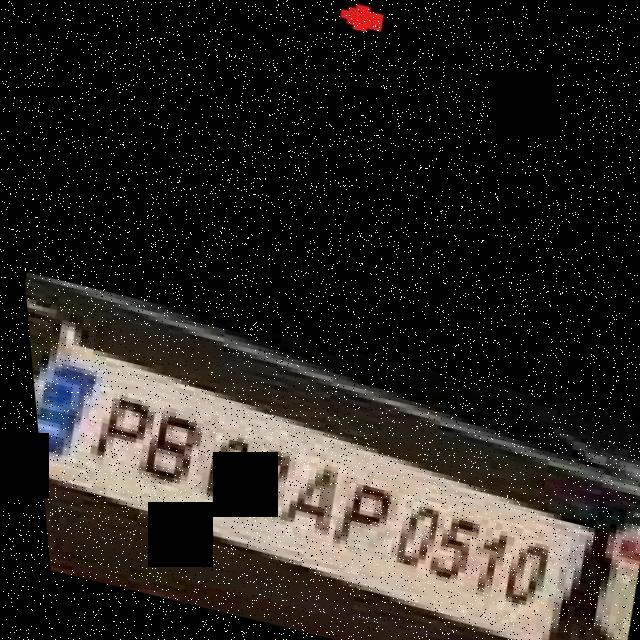0: (184, 428, 253, 510), (375, 495, 443, 573), (487, 538, 551, 615)
1: (456, 528, 507, 600)
3: (227, 442, 288, 523)
5: (414, 515, 475, 590)
A: (266, 455, 339, 540)
B: (114, 407, 210, 489)
P: (66, 387, 156, 469), (320, 476, 392, 557)
